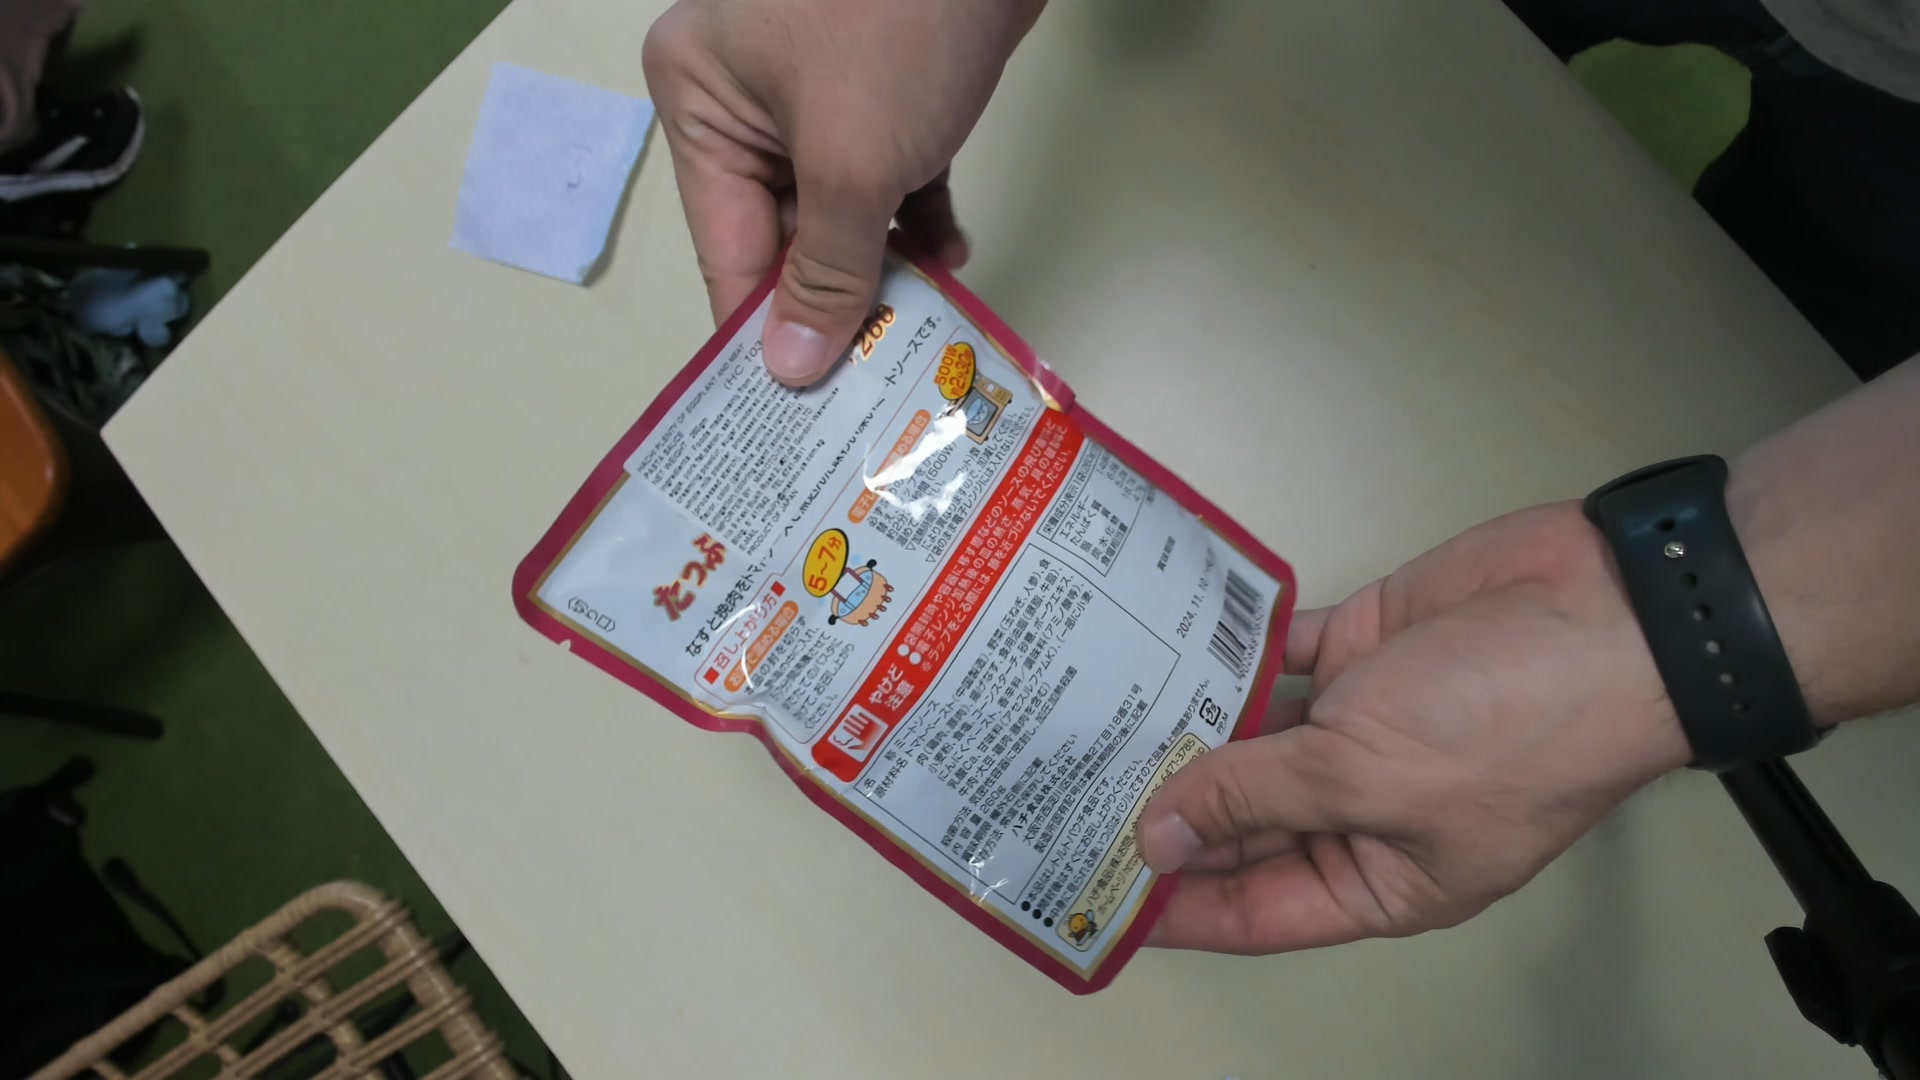PastaSauce_200-299g_NonHalal_NonHealthy: (531, 237, 1274, 975)
